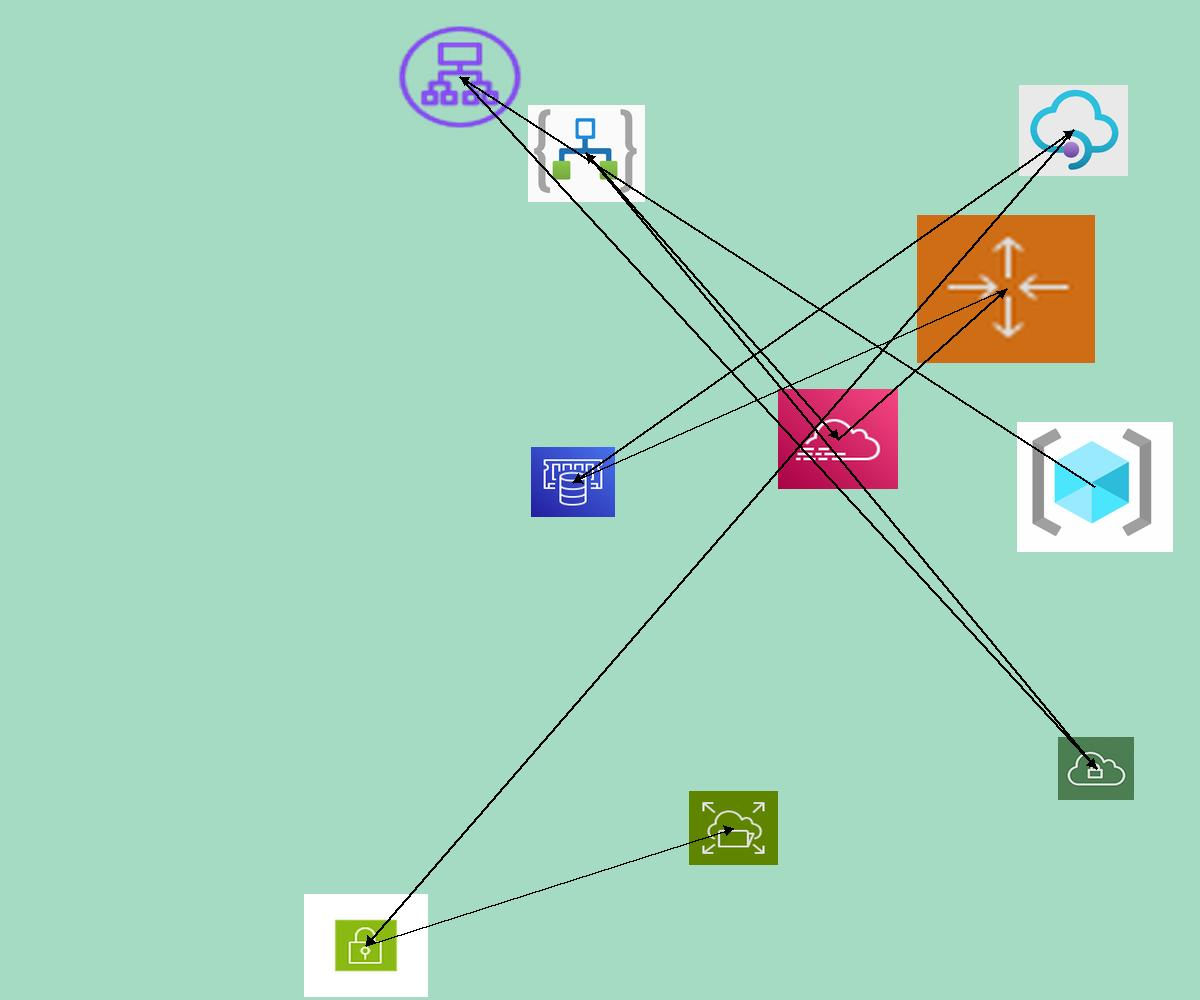AWS-CloudTrail: (778, 389, 898, 489)
AWS-EFS: (689, 791, 778, 865)
AWS-ElastiCache: (531, 447, 615, 517)
AWS-Private_vpc: (1058, 737, 1134, 800)
AWS-Public-subnet: (304, 894, 428, 997)
AWS-Res_Elastic-Load-Balancing_Application-Load-Balancer: (394, 22, 526, 132)
AWS-Scaling-group: (917, 215, 1095, 363)
Azure_api_gateway: (1019, 85, 1128, 176)
Azure_integration-204-Logic-Apps: (528, 105, 645, 202)
Azure_resource_group: (1017, 422, 1173, 552)
